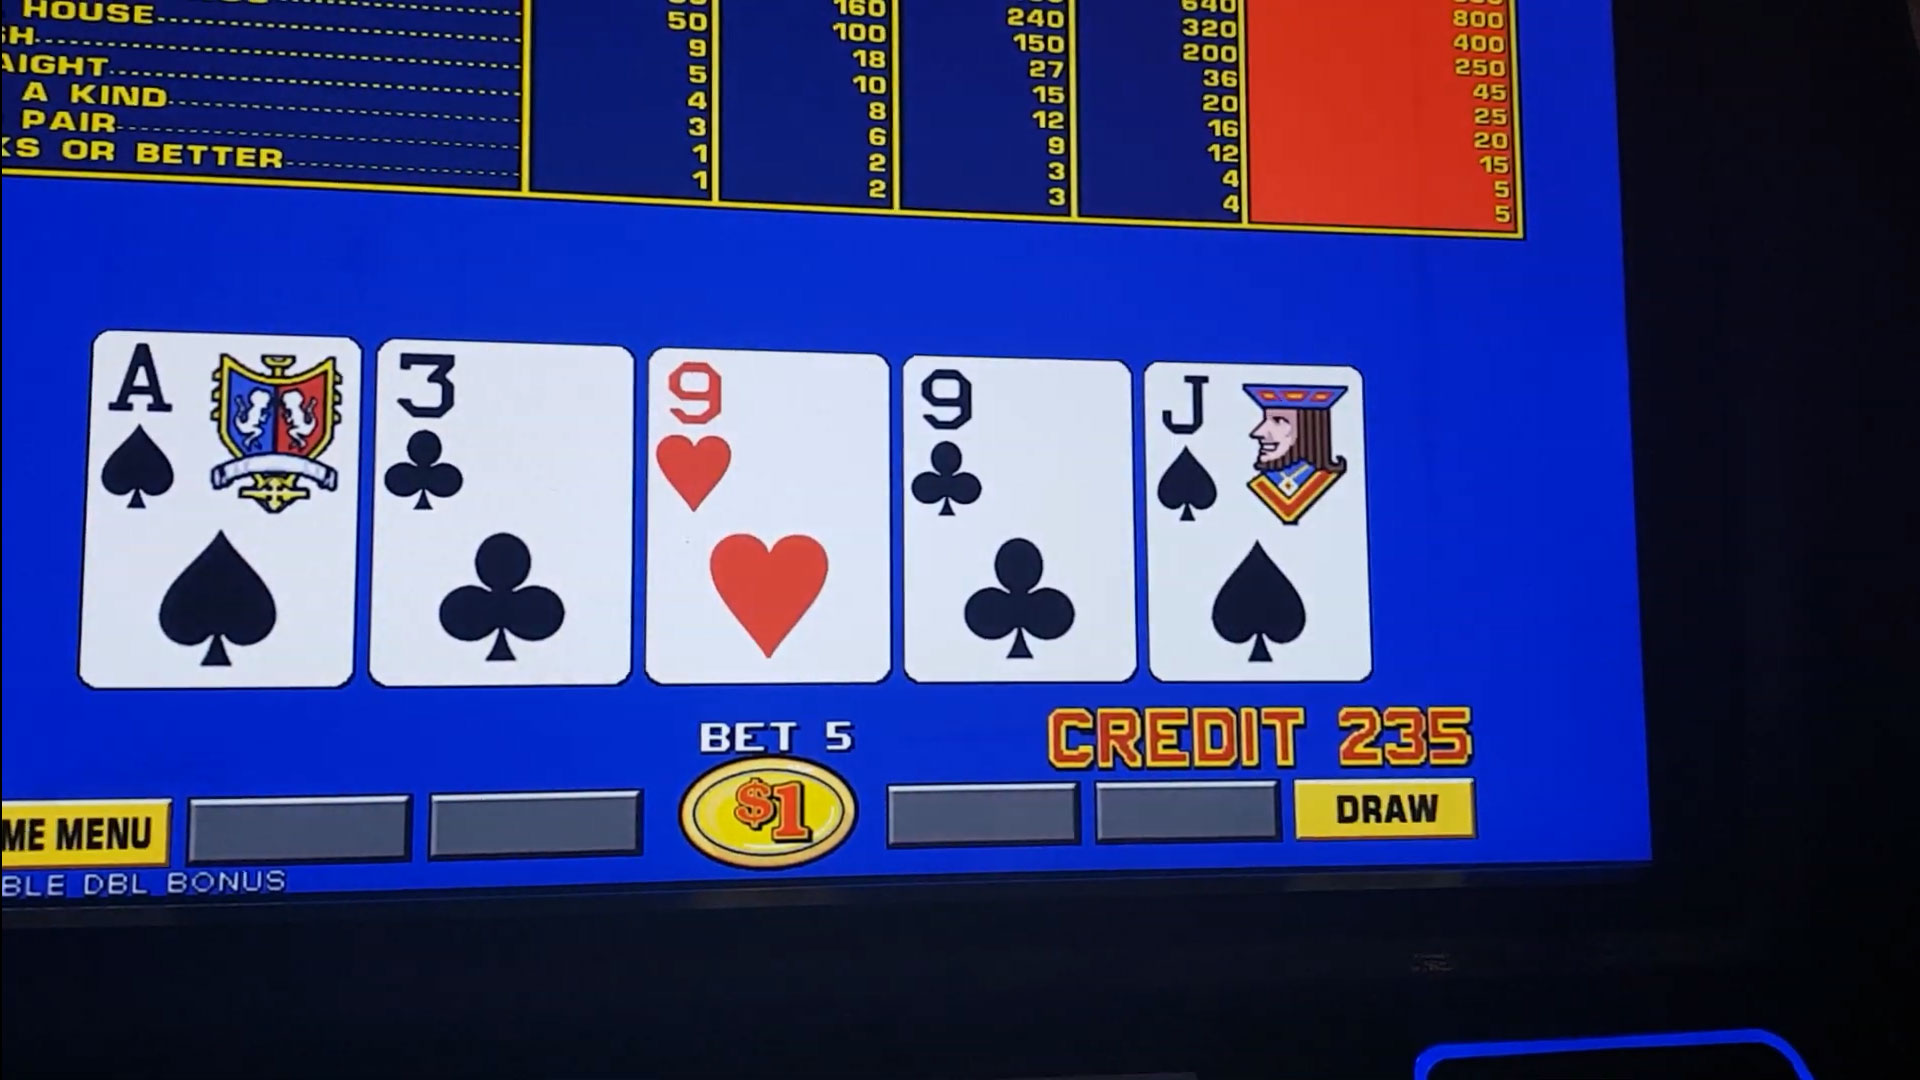C3: (378, 345, 630, 520)
C9: (911, 367, 1124, 521)
H9: (647, 363, 884, 527)
SA: (95, 334, 357, 524)
SJ: (1153, 372, 1358, 522)
